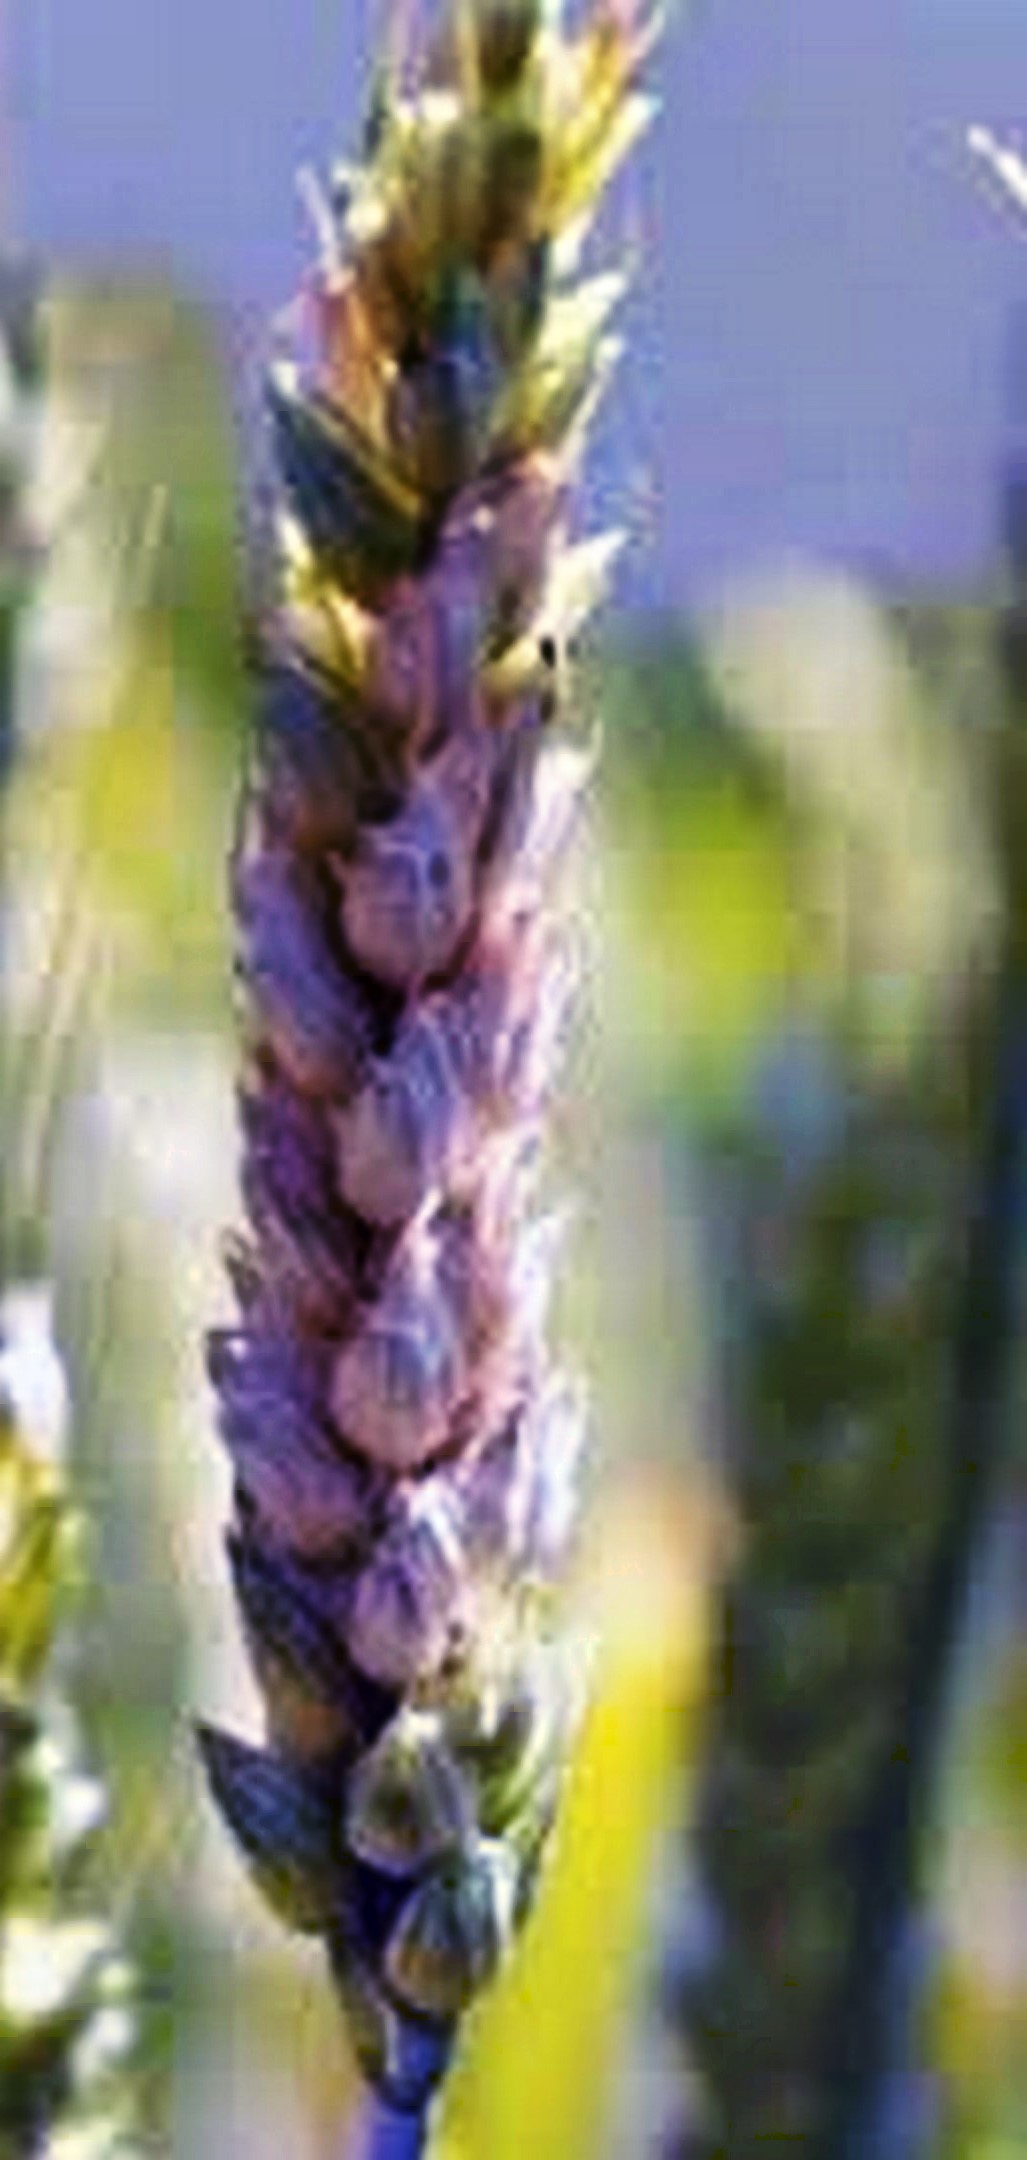Wheat scab: (186, 45, 626, 2064)
